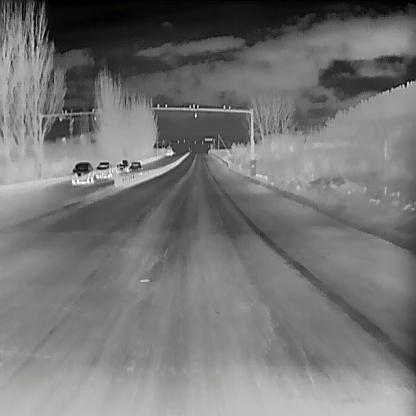car: (70, 159, 94, 184), (93, 159, 112, 178), (115, 157, 129, 171), (128, 159, 142, 171), (165, 145, 172, 155)
